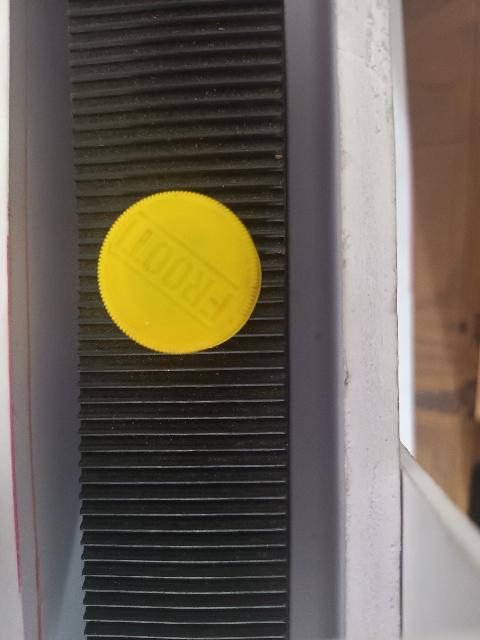bottlecap: (96, 188, 266, 356)
